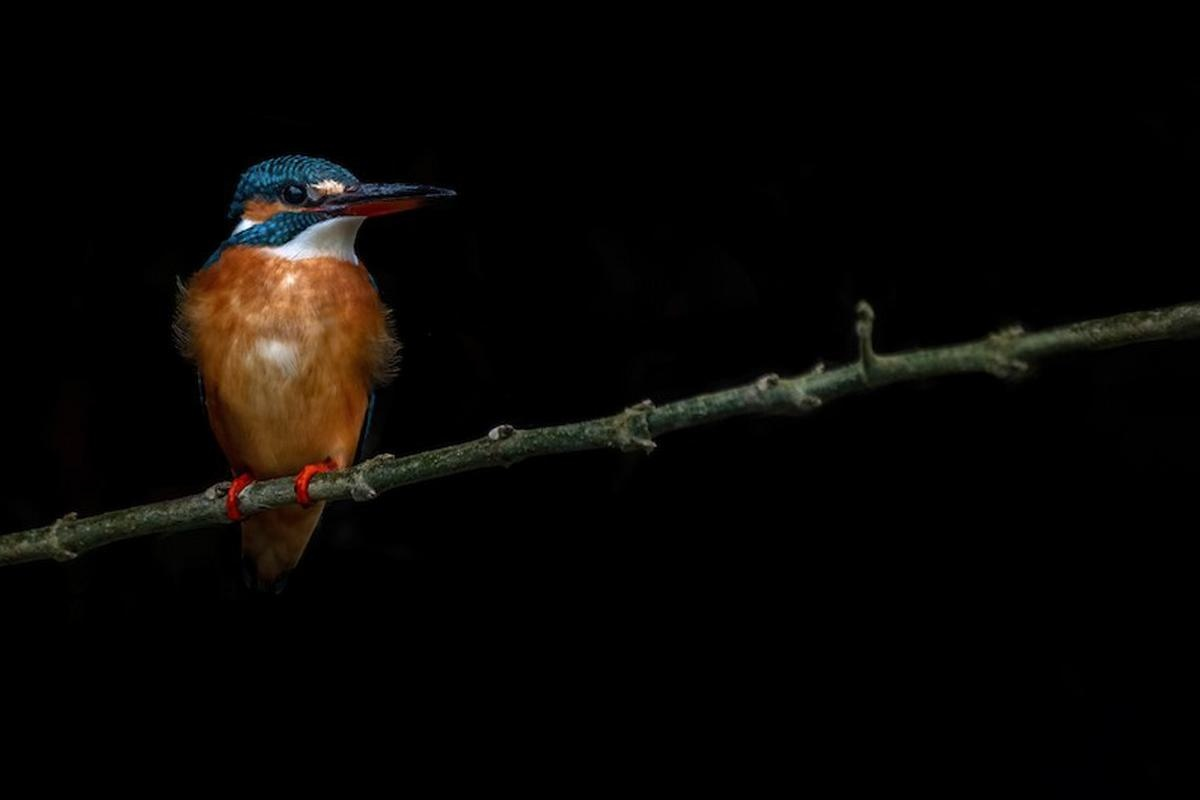kingfisher: (194, 133, 468, 564)
